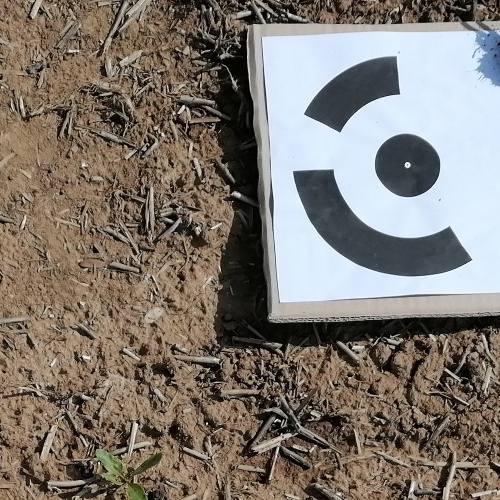beet: (96, 452, 161, 500)
